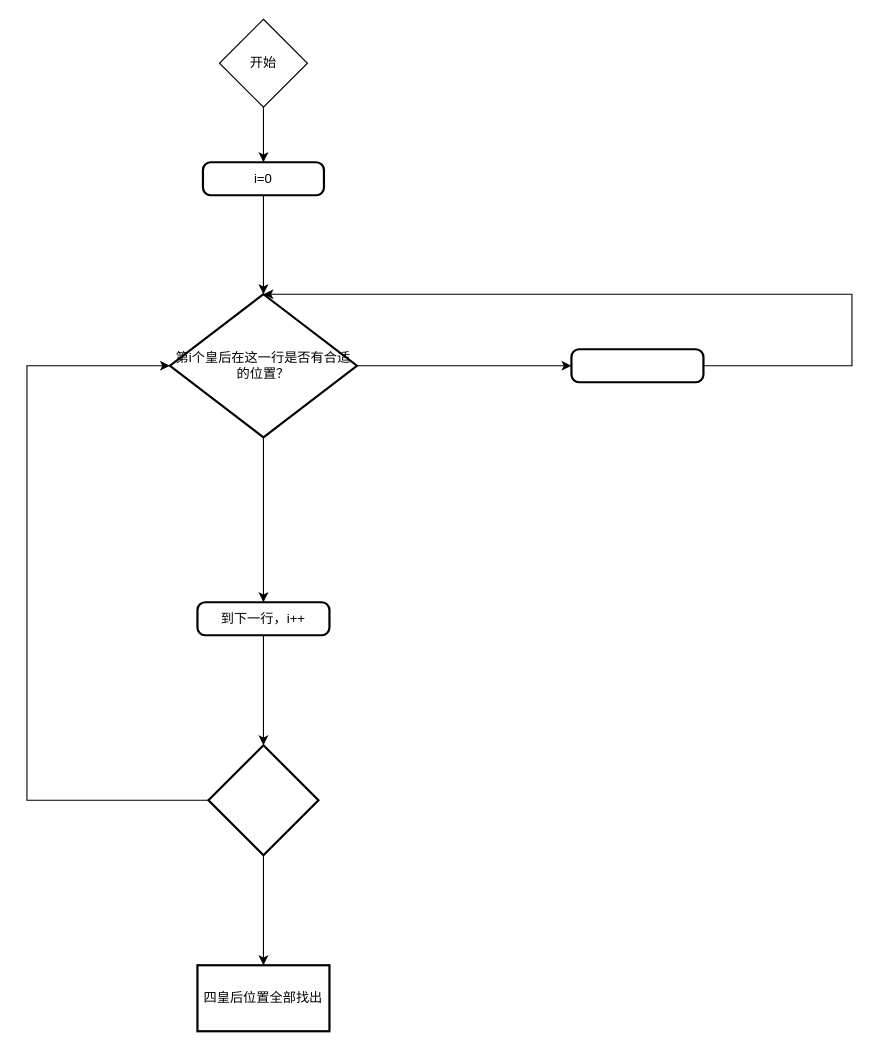
This 880x1052 diagram has some shape labels left out. The centre of each missing label's shape, as x and y in pixels:
"i=4？" goes at pixel 263 800.
"回溯到上一行，i--" goes at pixel 637 365.
